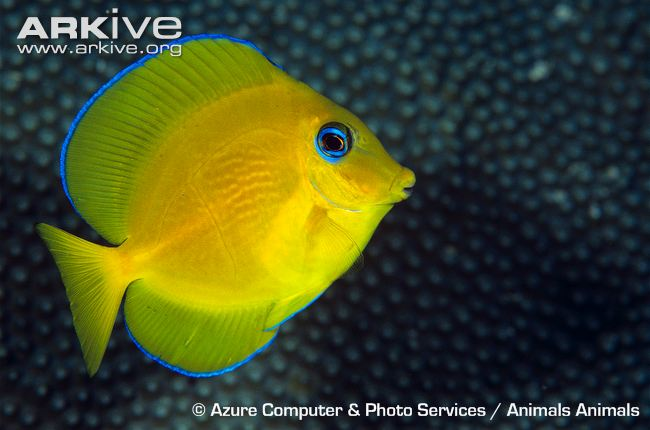Acanthurus_coeruleus: (35, 33, 419, 381)
